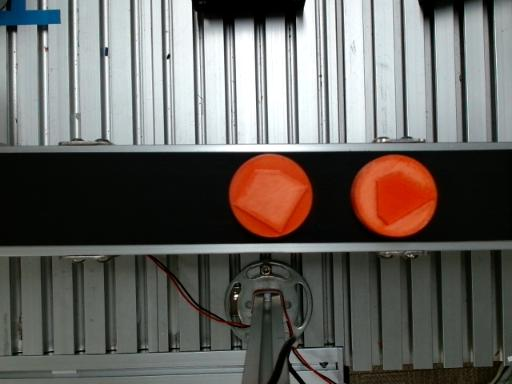Not_Square: (233, 169, 309, 233), (376, 171, 437, 225)
Orange_Waper: (350, 154, 438, 237), (229, 154, 312, 237)
